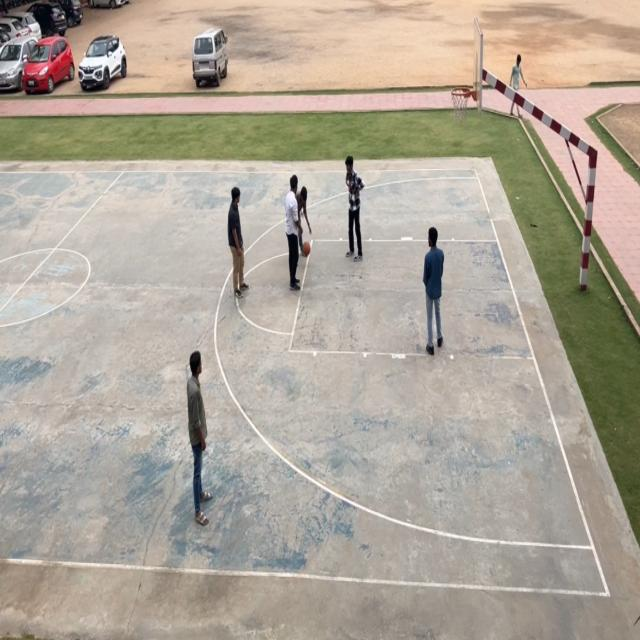basketball: (301, 239, 312, 259)
hoop: (450, 85, 470, 131)
